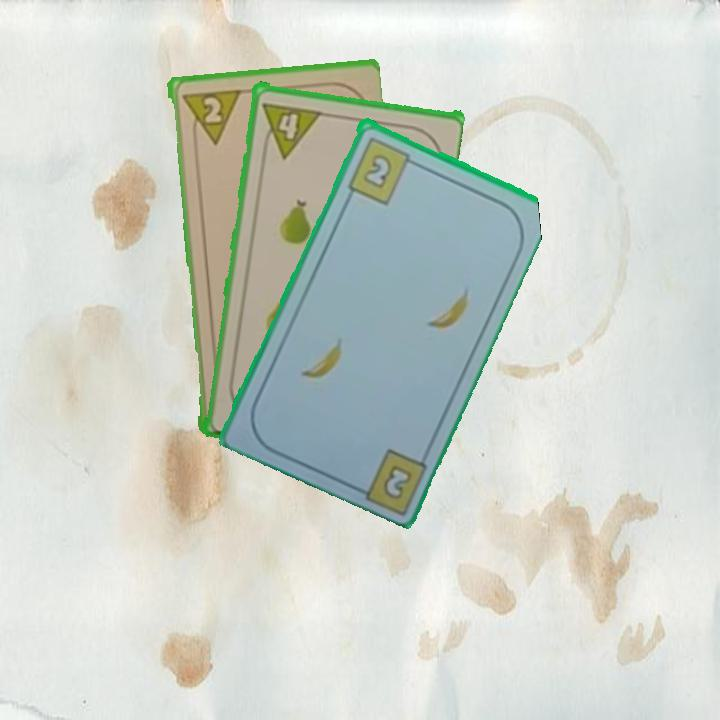2b: (343, 133, 421, 207), (379, 461, 415, 502)
2p: (177, 85, 241, 148)
4p: (258, 98, 323, 160)
